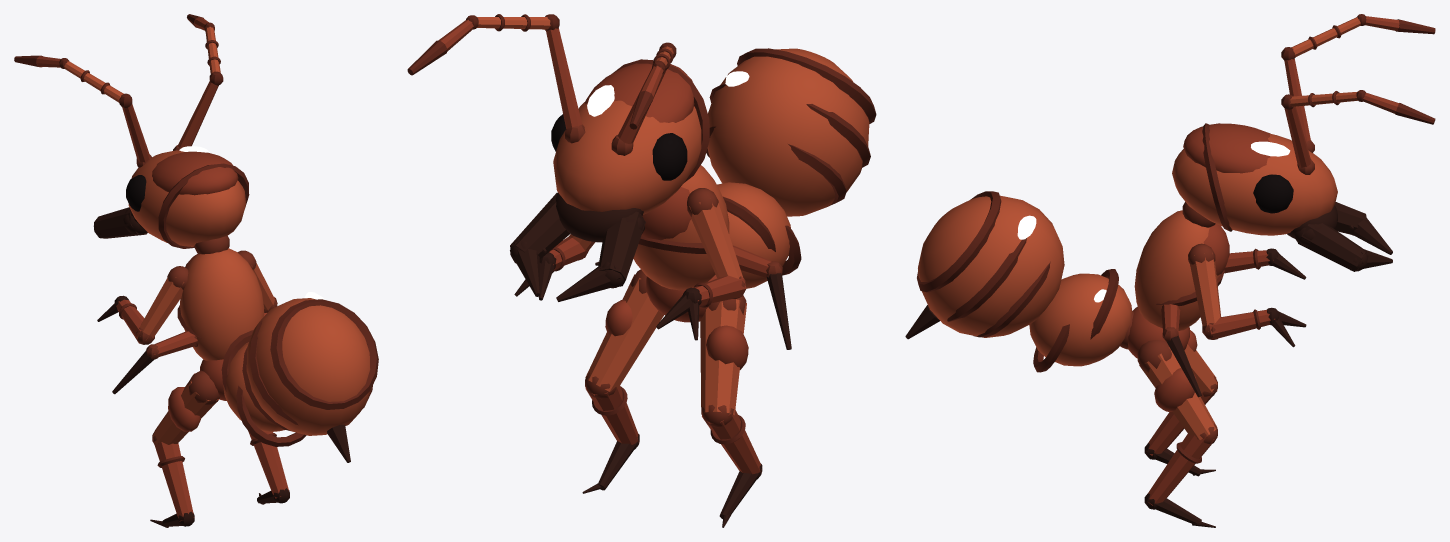
Rendered from bug_ant.glb.
3 views of the same model, side by side, from view 1: azimuth 30°, elevation 25°; view 2: azimuth 150°, elevation 25°; view 3: azimuth 270°, elevation 25° (orthographic). The views are drawn at different scales.
Parts seen in each view (by area): view 1: gaster_2, head, thorax, gaster_1, leg_l_thigh, leg_l_shin, arm_l_upper, mandible_l, leg_r_shin, antenna_r_1, antenna_l_2, antenna_l_1 (+7 smaller); view 2: gaster_2, head, thorax, gaster_1, leg_l_thigh, leg_r_thigh, mandible_l, arm_l_upper, mandible_r, leg_l_shin, leg_r_shin, antenna_r_1 (+13 smaller); view 3: gaster_2, head, gaster_1, thorax, leg_r_thigh, mandible_r, leg_r_shin, arm_r_upper, mandible_l, pelvis, arm_r_fore, leg_l_shin (+10 smaller).
Part boxes in pixels (x1,y1,x2,y2): gaster_2: [242, 292, 378, 462]; head: [126, 146, 249, 254]; thorax: [177, 248, 264, 360]; gaster_1: [221, 330, 306, 446]; leg_l_thigh: [152, 370, 220, 444]; leg_l_shin: [152, 429, 194, 521]; arm_l_upper: [139, 266, 188, 339]; mandible_l: [93, 207, 147, 238]; leg_r_shin: [248, 431, 288, 498]; antenna_r_1: [173, 81, 218, 150]; antenna_l_2: [64, 61, 132, 107]; antenna_l_1: [122, 104, 152, 167]; gaster_2: [706, 48, 876, 216]; head: [551, 59, 709, 242]; thorax: [633, 165, 729, 290]; gaster_1: [717, 182, 801, 288]; leg_l_thigh: [700, 295, 748, 415]; leg_r_thigh: [585, 269, 663, 391]; mandible_l: [556, 211, 645, 301]; arm_l_upper: [687, 188, 742, 278]; mandible_r: [510, 192, 570, 296]; leg_l_shin: [701, 405, 762, 474]; leg_r_shin: [585, 372, 639, 444]; antenna_r_1: [546, 28, 585, 143]; gaster_2: [905, 191, 1064, 339]; head: [1172, 123, 1337, 238]; gaster_1: [1029, 269, 1132, 372]; thorax: [1134, 210, 1229, 330]; leg_r_thigh: [1137, 340, 1217, 440]; mandible_r: [1294, 223, 1392, 271]; leg_r_shin: [1147, 423, 1217, 505]; arm_r_upper: [1188, 243, 1220, 332]; mandible_l: [1335, 202, 1392, 254]; pelvis: [1120, 306, 1189, 358]; arm_r_fore: [1202, 309, 1275, 339]; leg_l_shin: [1146, 376, 1217, 455].
Bounding box in the file's own units: 0.8835 × 1.76 × 1.89.
